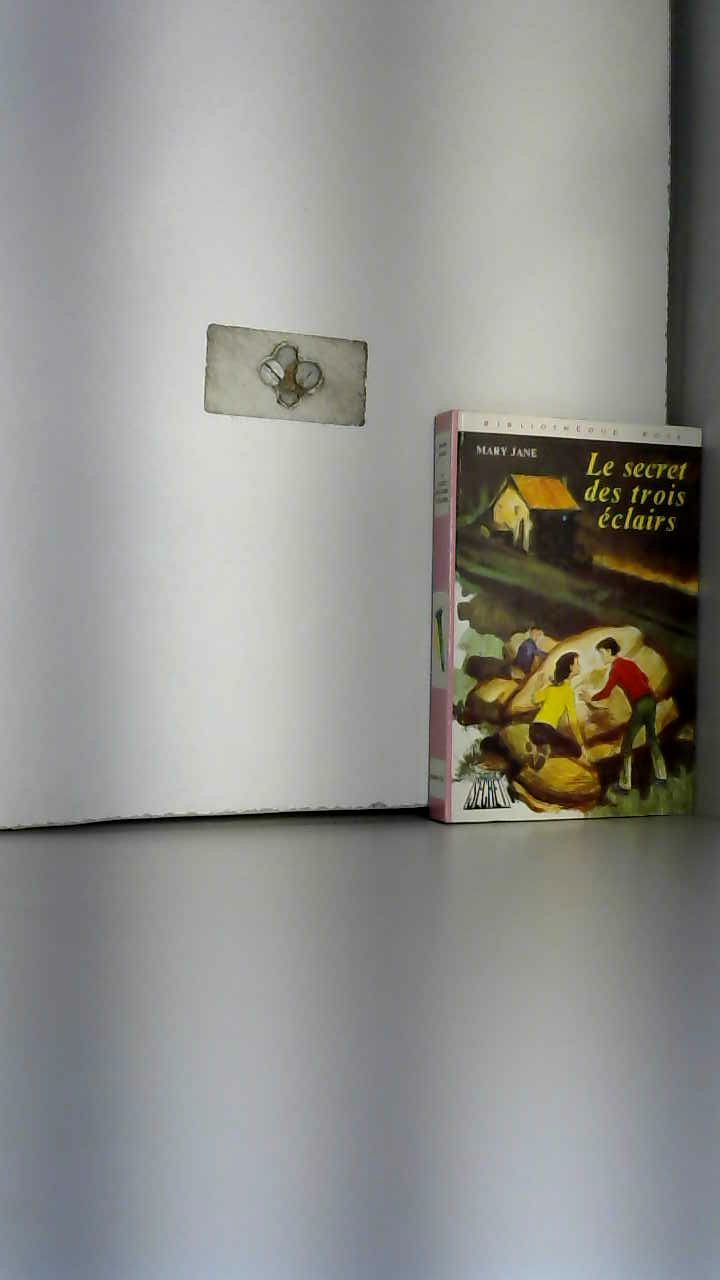book: (409, 372, 720, 857)
